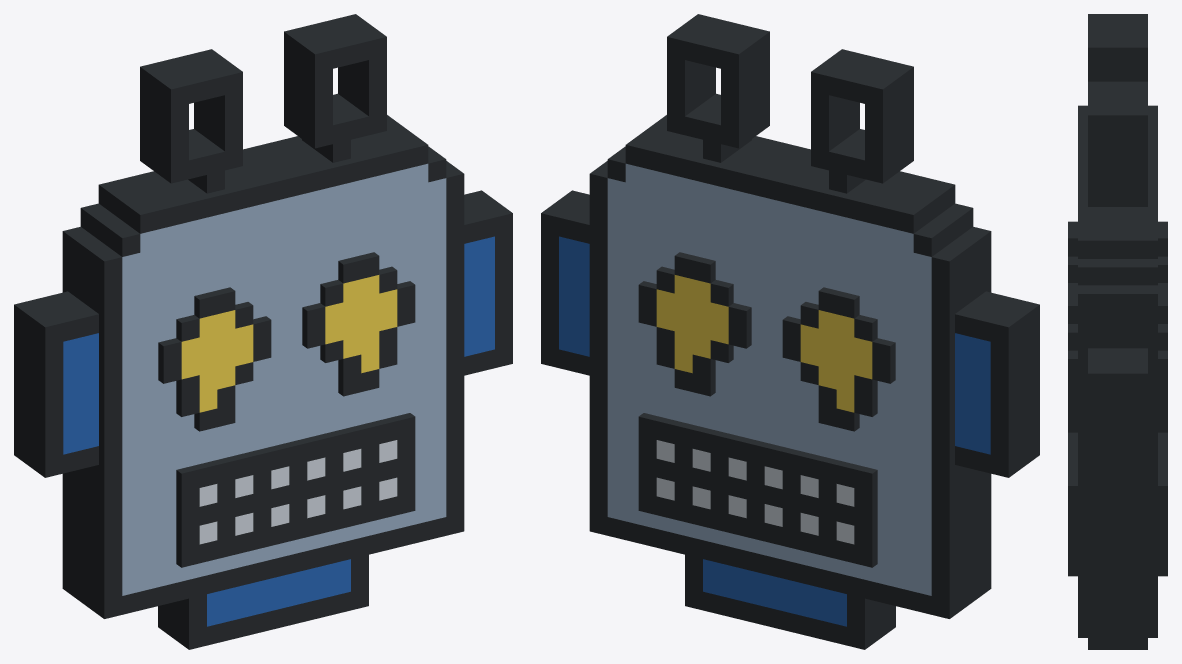
File: minirobot.fbx
3 renders of one model, left to right at view 1: azimuth 30°, elevation 25°; view 2: azimuth 150°, elevation 25°; view 3: azimuth 270°, elevation 25°, orthographic. The views are drawn at different scales.
Parts seen in each view (by area): view 1: generated; view 2: generated; view 3: generated.
Boxes of the visible parts, x1=… form: generated: x1=14, y1=14, x2=512, y2=649; generated: x1=541, y1=14, x2=1039, y2=649; generated: x1=1068, y1=14, x2=1167, y2=649.
Size of the model in its own units: 260 by 300 by 50.
